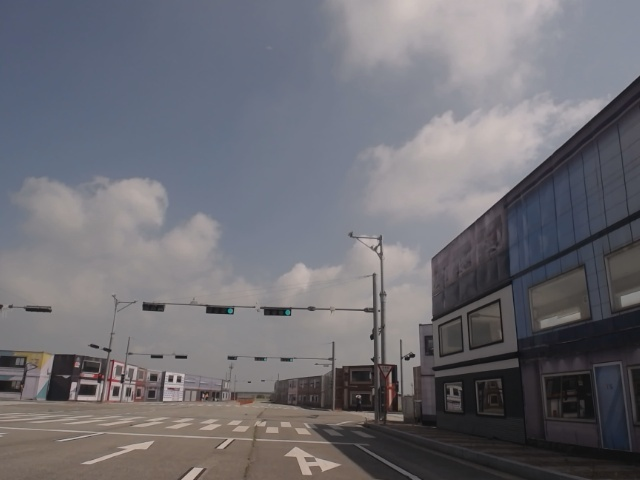straight_green_4: (207, 306, 235, 315), (263, 307, 292, 315)
